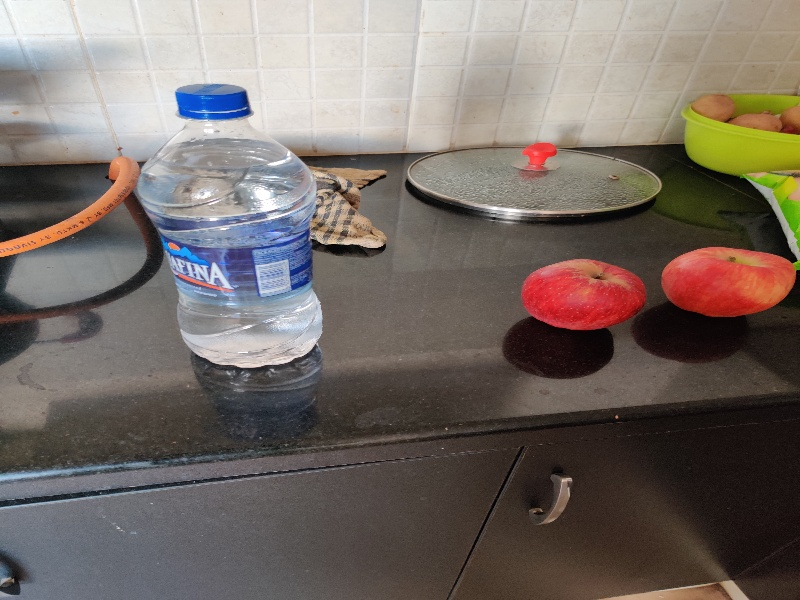bottle: (123, 77, 329, 370)
